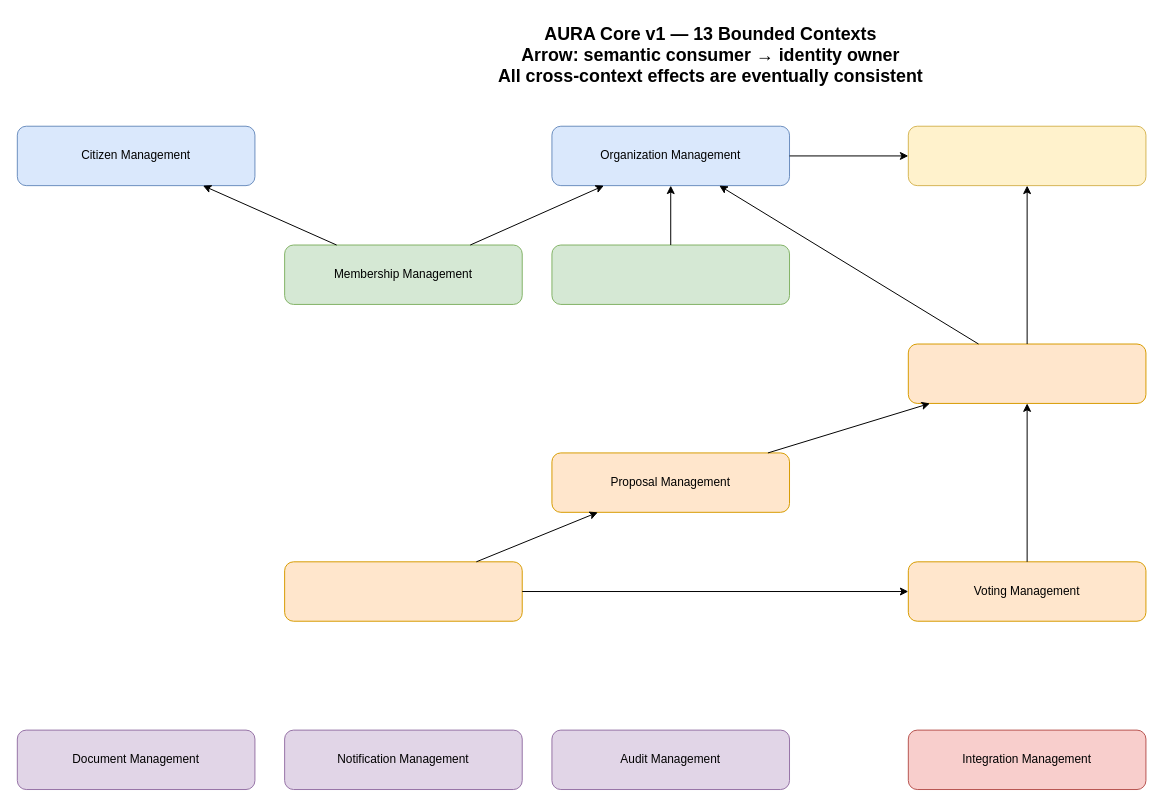
The diagram is 1163 pixels wide and 807 high, and some of its shapes have lost their labels. Here are the shapes that lost their labels. From the top down, the centre of each, then its label:
At point (1026, 155): "Territorial Management".
At point (670, 274): "Authorization Management".
At point (1026, 373): "Assembly Management".
At point (403, 591): "Participation Management".
